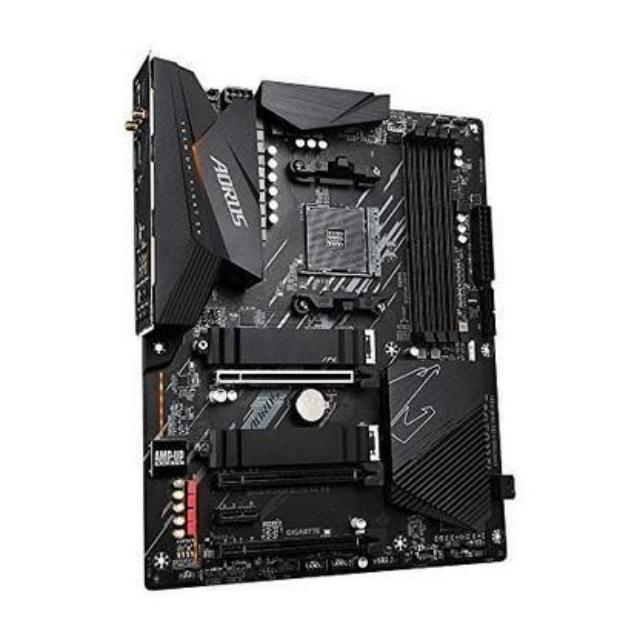Mainboard: (115, 54, 520, 612)
